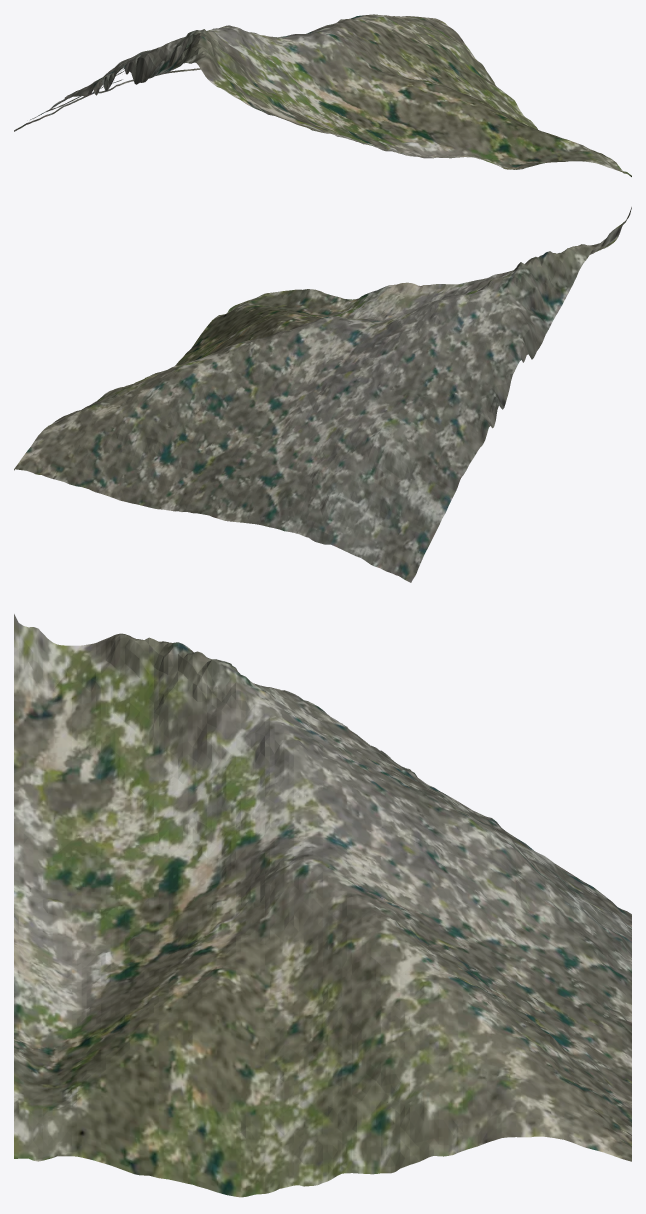
3 views of the same model, one above another, from view 1: azimuth 30°, elevation 25°; view 2: azimuth 150°, elevation 25°; view 3: azimuth 270°, elevation 25° (orthographic). The views are drawn at different scales.
Bounding box in the file's own units: 250 × 136 × 241.
Materials: 1 (1 with a texture image).
